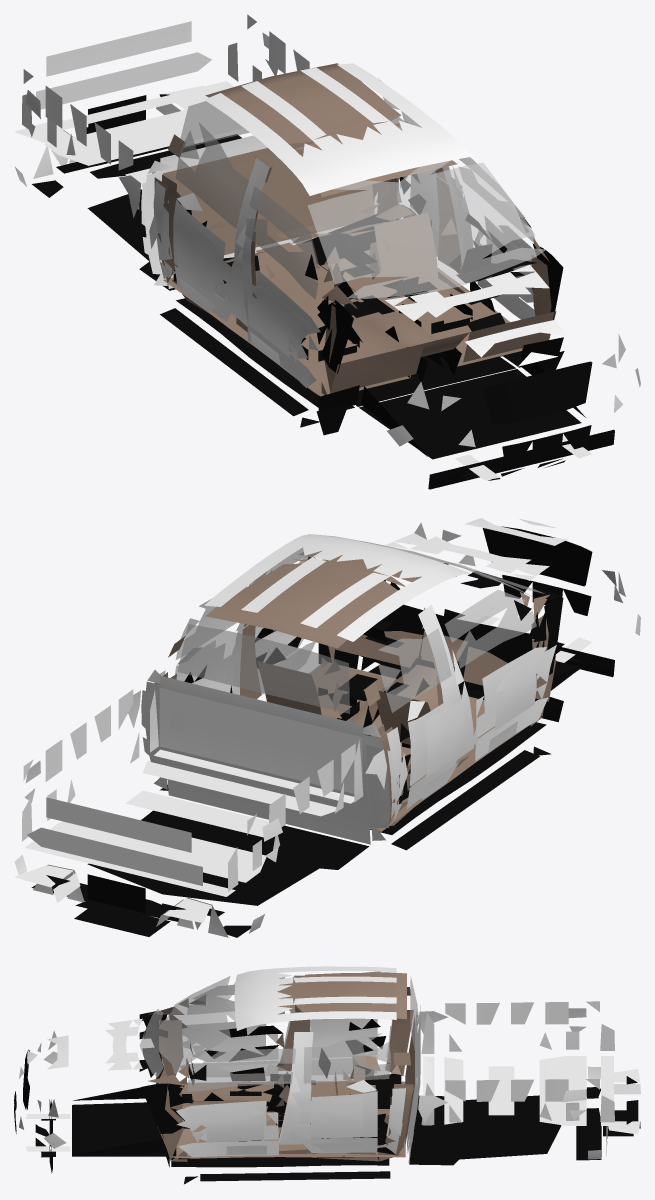
The model's file is maxus_lejos.glb.
3 views of the same model, one above another, from view 1: azimuth 30°, elevation 25°; view 2: azimuth 150°, elevation 25°; view 3: azimuth 270°, elevation 25° (orthographic). The views are drawn at different scales.
Visible parts, largest first — view 1: maxus; view 2: maxus; view 3: maxus.
Boxes of the visible parts, left/top/right/bottom form: maxus: left=14, top=14, right=640, bottom=489; maxus: left=14, top=518, right=640, bottom=937; maxus: left=14, top=966, right=640, bottom=1184.
Size of the model in its own units: 1.78 by 1.48 by 5.34.
